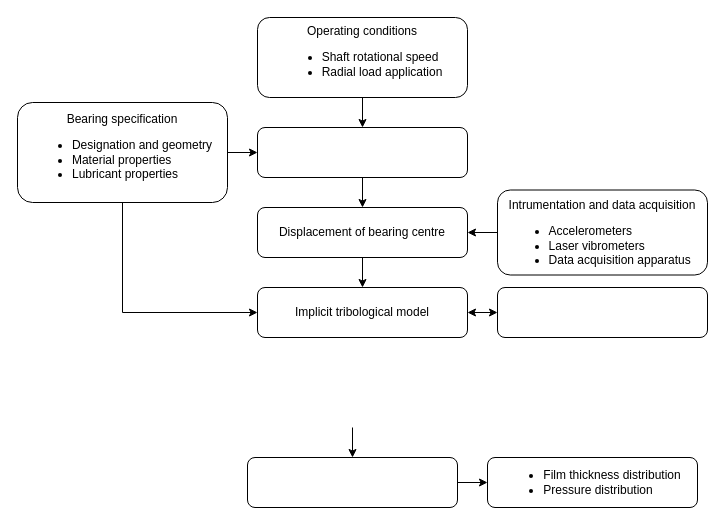
The diagram is 725 pixels wide and 526 high, and some of its shapes have lost their labels. Here are the shapes that lost their labels. From the top down, the centre of each, then its label:
At pixel 362 152: "Experimental test".
At pixel 602 312: "Calculate EHL central film thickness".
At pixel 352 482: "Explicit numerical EHL model".
